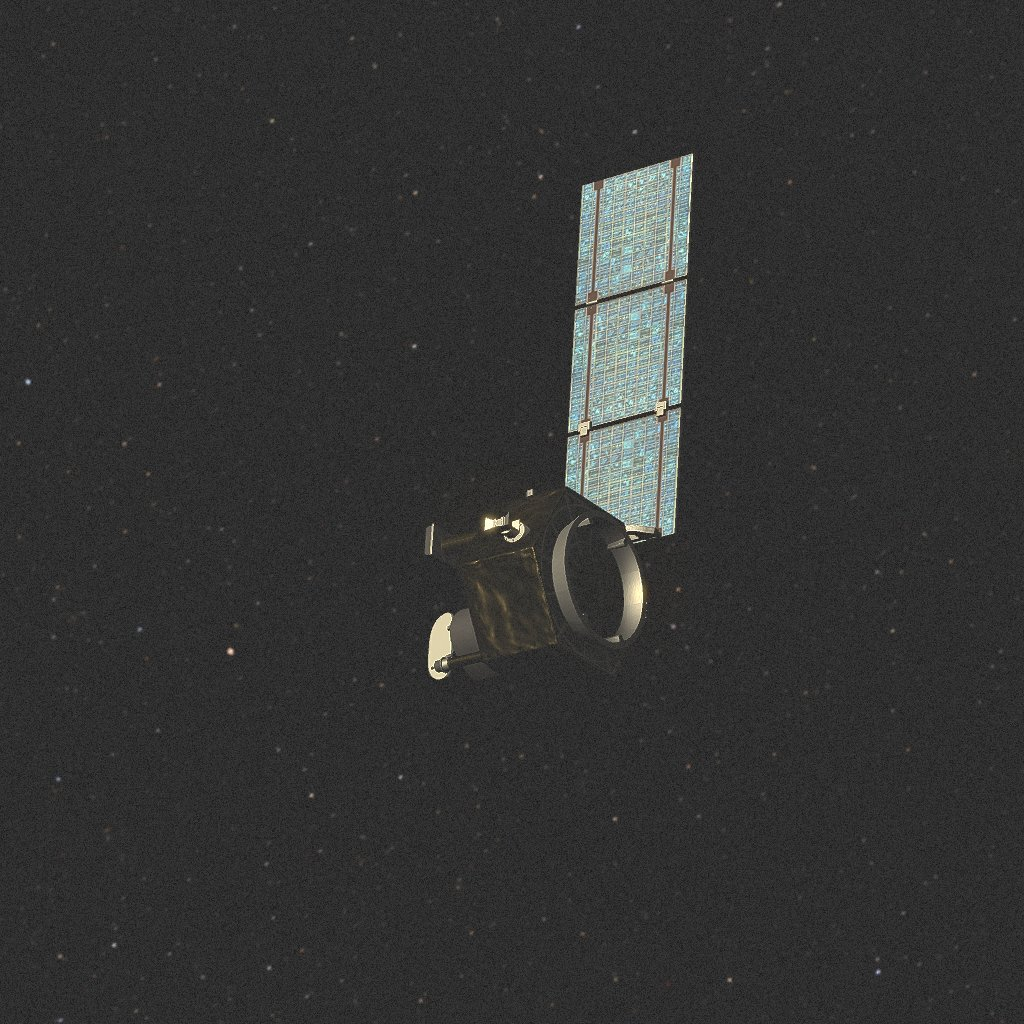earth_observation_sat_1: (425, 154, 695, 697)
